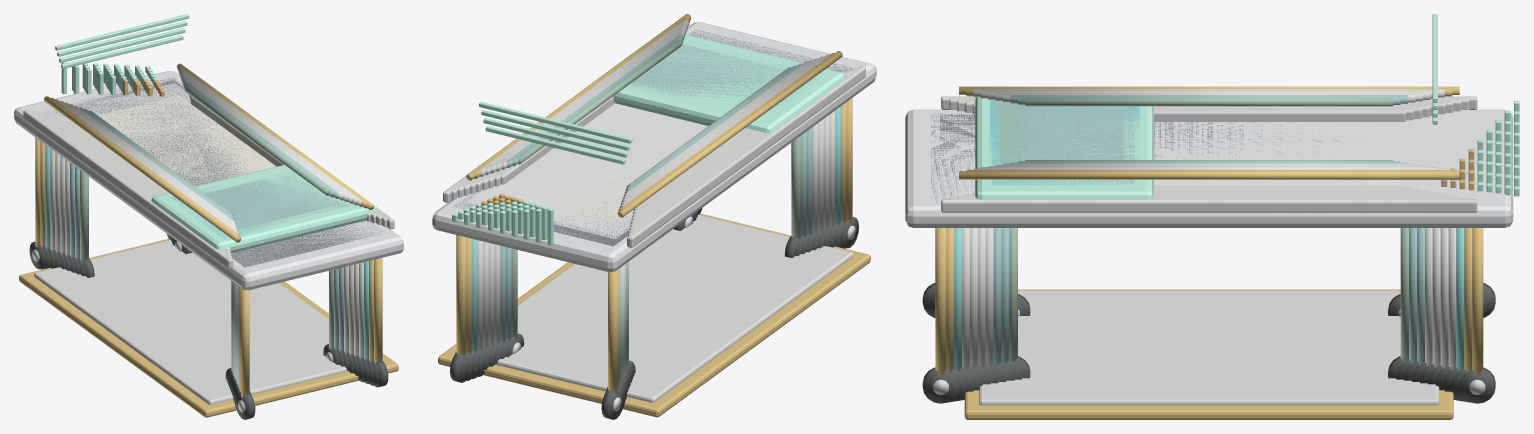
The model's file is Gear17.fbx.
The picture shows the model from 3 angles, left to right: view 1: azimuth 30°, elevation 25°; view 2: azimuth 150°, elevation 25°; view 3: azimuth 270°, elevation 25°; orthographic projection. The views are drawn at different scales.
Parts seen in each view (by area): view 1: Gear17_V6_Chrome, Gear17_V8_Chrome, Gear17_V10_Platinum, Gear17_V10_Gold, Gear17_V10_Glow, Gear17_V2_Ivory, Gear17_V10_Chrome, Gear17_V7_Graphite, Gear17_V5_Chrome, Gear17_V9_Gold, Gear17_V1_Blue, Gear17_V8_Graphite (+15 smaller); view 2: Gear17_V10_Chrome, Gear17_V10_Gold, Gear17_V8_Chrome, Gear17_V5_Platinum, Gear17_V10_Platinum, Gear17_V10_Glow, Gear17_V7_Chrome, Gear17_V4_Chrome, Gear17_V5_Chrome, Gear17_V6_Chrome, Gear17_V1_Blue, Gear17_V8_Glow (+21 smaller); view 3: Gear17_V10_Chrome, Gear17_V10_Platinum, Gear17_V10_Gold, Gear17_V8_Chrome, Gear17_V5_Chrome, Gear17_V9_Platinum, Gear17_V9_Chrome, Gear17_V7_Chrome, Gear17_V5_Platinum, Gear17_V4_Chrome, Gear17_V1_Sage, Gear17_V6_Chrome (+22 smaller).
Boxes of the visible parts, <box> form: Gear17_V6_Chrome: <box>47,74,371,401</box>; Gear17_V8_Chrome: <box>36,69,381,344</box>; Gear17_V10_Platinum: <box>14,71,403,290</box>; Gear17_V10_Gold: <box>19,63,398,417</box>; Gear17_V10_Glow: <box>55,14,377,253</box>; Gear17_V2_Ivory: <box>69,95,275,186</box>; Gear17_V10_Chrome: <box>23,109,394,412</box>; Gear17_V7_Graphite: <box>42,80,332,263</box>; Gear17_V5_Chrome: <box>52,76,353,401</box>; Gear17_V9_Gold: <box>24,66,395,416</box>; Gear17_V1_Blue: <box>204,178,340,229</box>; Gear17_V8_Graphite: <box>41,77,382,267</box>; Gear17_V10_Chrome: <box>443,66,865,411</box>; Gear17_V10_Gold: <box>438,14,870,417</box>; Gear17_V8_Chrome: <box>457,19,851,401</box>; Gear17_V5_Platinum: <box>472,103,708,235</box>; Gear17_V10_Platinum: <box>432,22,876,271</box>; Gear17_V10_Glow: <box>452,31,846,245</box>; Gear17_V7_Chrome: <box>463,22,845,382</box>; Gear17_V4_Chrome: <box>482,31,833,372</box>; Gear17_V5_Chrome: <box>475,28,837,375</box>; Gear17_V6_Chrome: <box>469,25,840,378</box>; Gear17_V1_Blue: <box>632,44,784,97</box>; Gear17_V8_Glow: <box>463,37,818,213</box>; Gear17_V10_Chrome: <box>933,96,1485,405</box>; Gear17_V10_Platinum: <box>905,109,1513,227</box>; Gear17_V10_Gold: <box>935,86,1483,419</box>; Gear17_V8_Chrome: <box>957,89,1461,398</box>; Gear17_V5_Chrome: <box>978,93,1440,391</box>; Gear17_V9_Platinum: <box>922,111,1496,204</box>; Gear17_V9_Chrome: <box>949,98,1469,399</box>; Gear17_V7_Chrome: <box>962,90,1456,396</box>; Gear17_V5_Platinum: <box>958,118,1460,196</box>; Gear17_V4_Chrome: <box>985,94,1432,376</box>; Gear17_V1_Sage: <box>1009,98,1408,362</box>; Gear17_V6_Chrome: <box>970,91,1448,394</box>.
Bounding box in the file's own units: 111 × 127 × 234.
